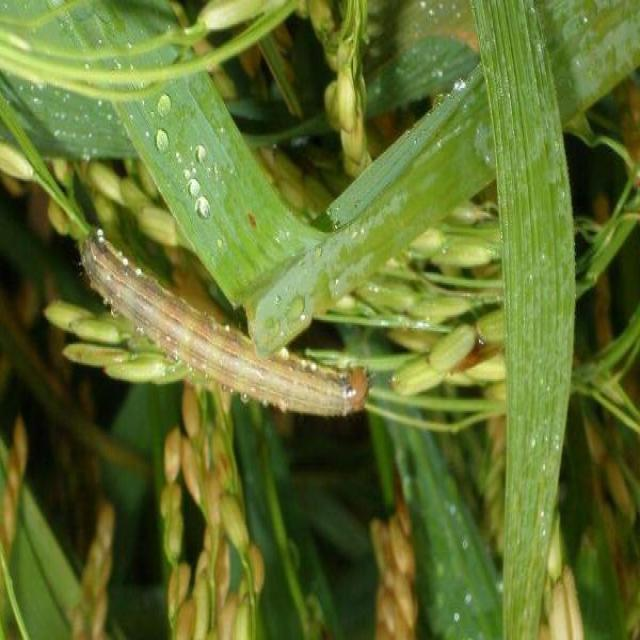army worm: (73, 224, 373, 431)
